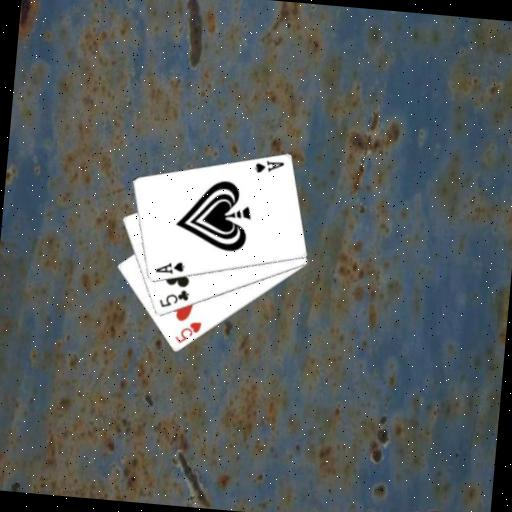5C: (156, 285, 191, 312)
5H: (171, 317, 203, 347)
AS: (251, 156, 286, 177), (152, 257, 187, 277)
